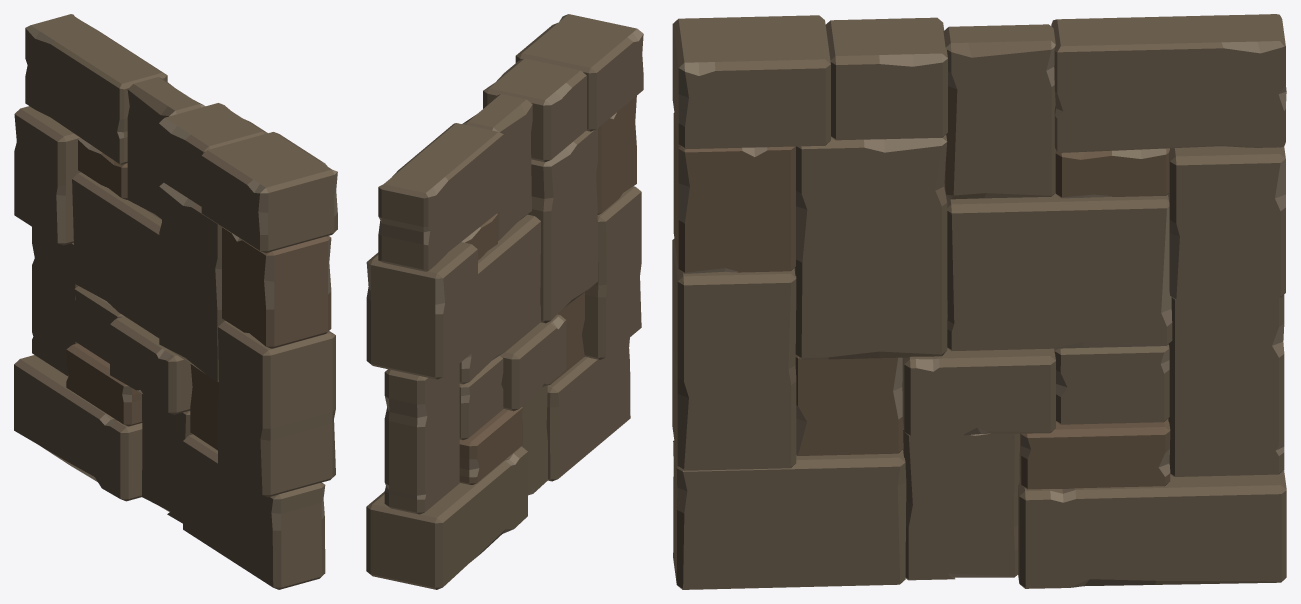
The model's file is entrada_wall_west_0_lev3.glb.
The picture shows the model from 3 angles, left to right: view 1: azimuth 30°, elevation 25°; view 2: azimuth 150°, elevation 25°; view 3: azimuth 270°, elevation 25°; orthographic projection. The views are drawn at different scales.
Visible parts, largest first — view 1: entrada_wall_west_0_lev3; view 2: entrada_wall_west_0_lev3; view 3: entrada_wall_west_0_lev3.
Boxes of the visible parts, x1,y1,x2,y2 form: entrada_wall_west_0_lev3: (14, 14, 337, 589); entrada_wall_west_0_lev3: (366, 14, 643, 589); entrada_wall_west_0_lev3: (672, 14, 1286, 589).
Bounding box in the file's own units: 1.55 × 5.96 × 6.19.
